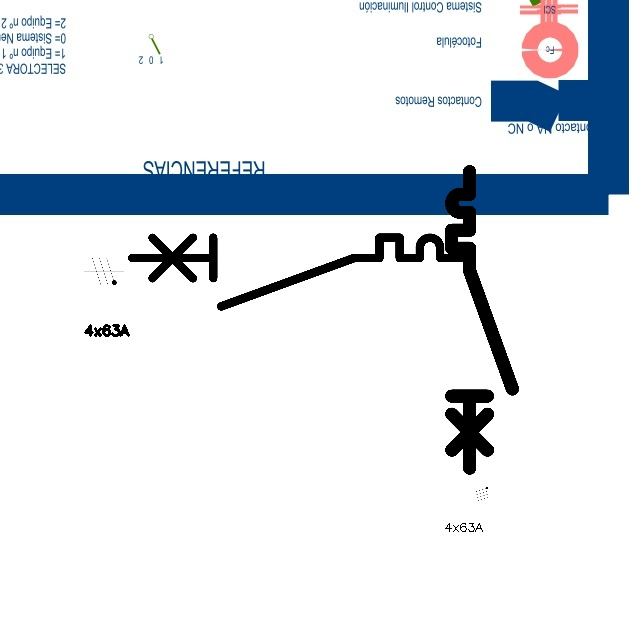interruptor_termomagnetico: (123, 229, 473, 314), (444, 164, 520, 475)
